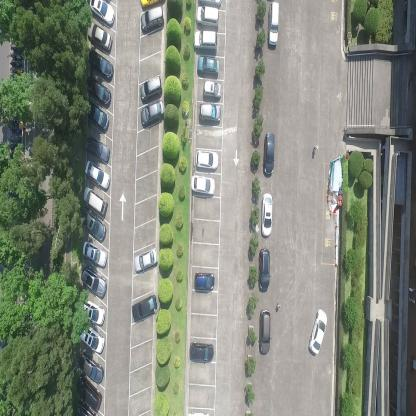car: (74, 373, 103, 410), (74, 351, 105, 385), (82, 98, 110, 134), (80, 265, 108, 300), (308, 310, 328, 356), (86, 73, 112, 108), (76, 323, 105, 354), (87, 50, 114, 83), (80, 207, 105, 241), (78, 298, 106, 328), (87, 20, 112, 53), (82, 186, 106, 220), (88, 0, 116, 29), (132, 294, 159, 324), (84, 159, 110, 190), (133, 244, 159, 274), (80, 242, 107, 269), (83, 134, 109, 162), (141, 5, 166, 34), (139, 74, 163, 104), (140, 100, 164, 130), (262, 130, 275, 179), (267, 0, 279, 50), (258, 309, 271, 355), (258, 246, 271, 291), (190, 340, 214, 363), (191, 172, 215, 195), (194, 146, 218, 169), (196, 54, 219, 77), (260, 193, 272, 237), (194, 30, 217, 52), (196, 6, 219, 28), (199, 102, 221, 124), (194, 270, 214, 292), (202, 80, 221, 99)
